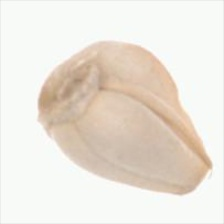L3: (38, 40, 213, 196), (179, 162, 214, 196)
